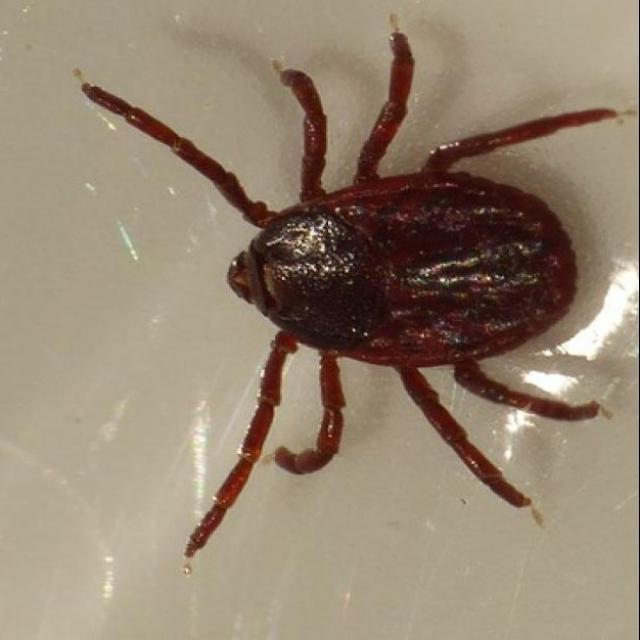Rhipicephalus Sanguineus-F: (83, 29, 625, 576)
